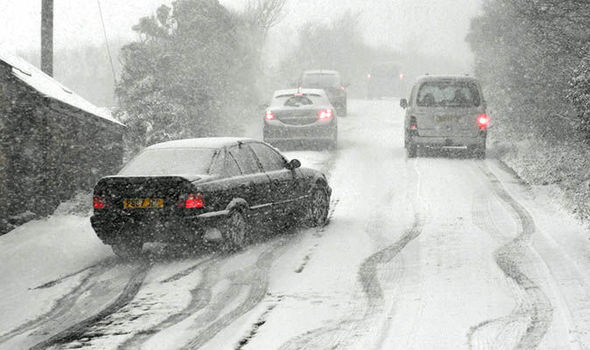car: (89, 136, 333, 257), (399, 73, 489, 160), (263, 87, 338, 150)
